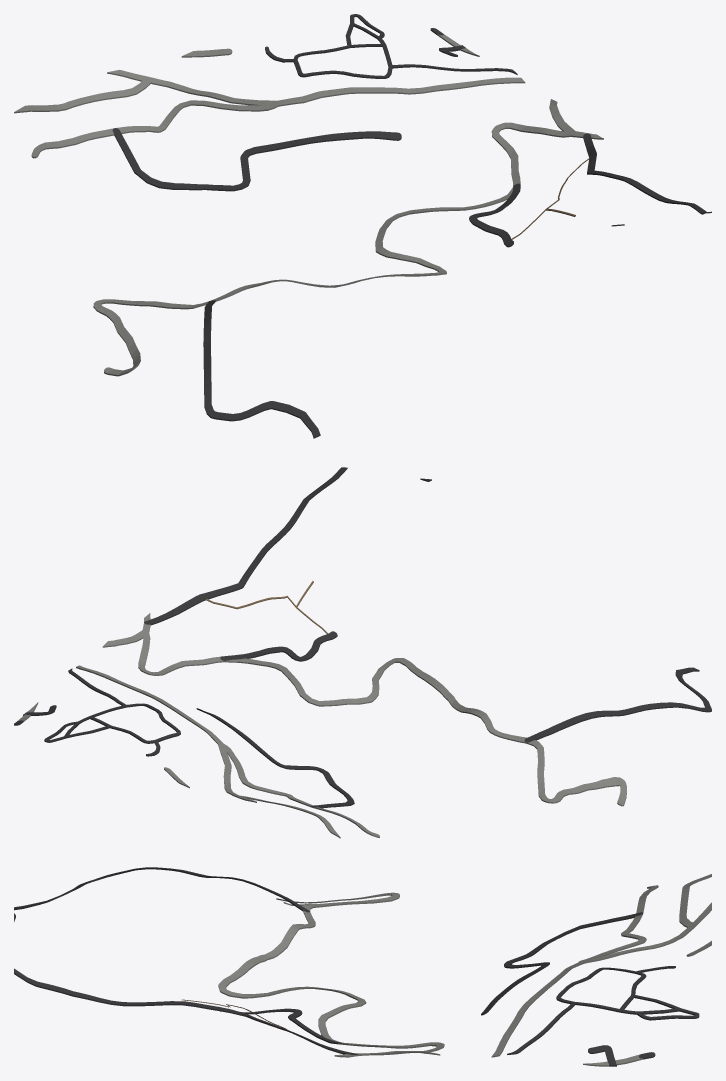
File: 16-54716-29730.254bca76.glb
3 views of the same model, one above another, from view 1: azimuth 30°, elevation 25°; view 2: azimuth 150°, elevation 25°; view 3: azimuth 270°, elevation 25° (orthographic). The views are drawn at different scales.
Size of the model in its own units: 494 by 155 by 583.
